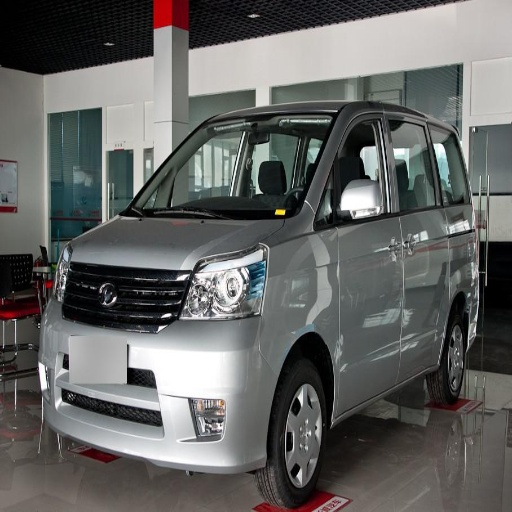front_bumper: (43, 261, 290, 467)
front_glass: (124, 114, 337, 216)
front_left_door: (317, 113, 403, 408)
trunk: (445, 236, 479, 305)
